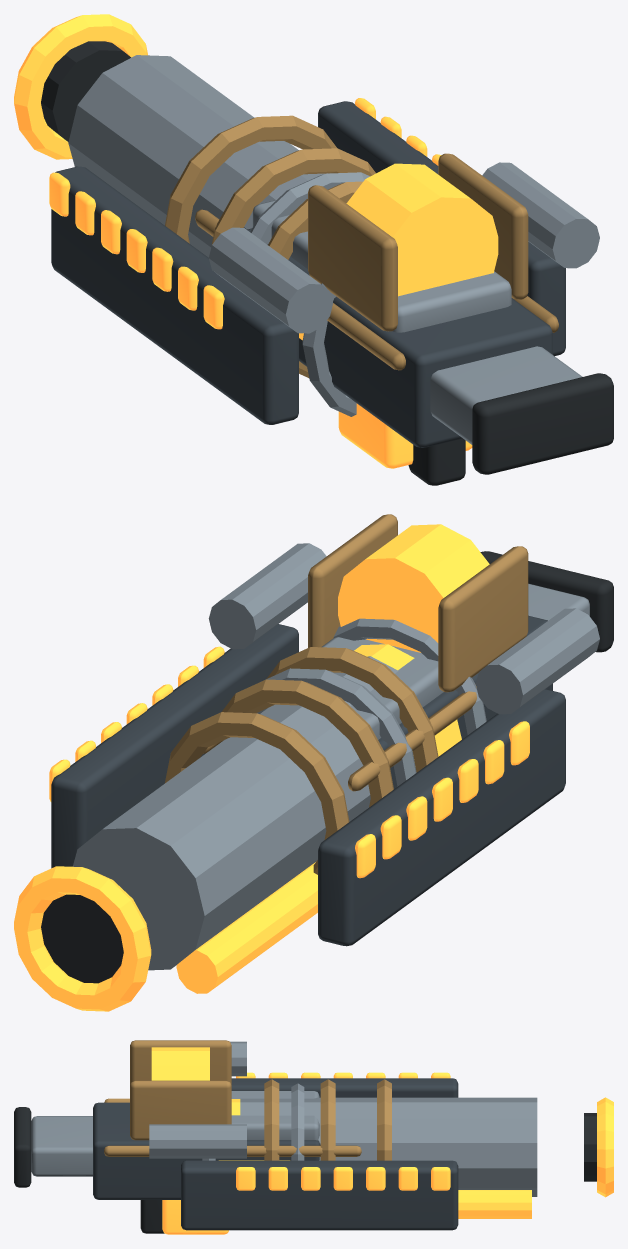
Rendered from apocalypse-core.glb.
3 views of the same model, one above another, from view 1: azimuth 30°, elevation 25°; view 2: azimuth 150°, elevation 25°; view 3: azimuth 270°, elevation 25° (orthographic). The views are drawn at different scales.
Parts seen in each view (by area): view 1: APOCALYPSE-CORE / heat shield, APOCALYPSE-CORE / siege barrel, APOCALYPSE-CORE / receiver, APOCALYPSE-CORE / exposed apocalypse core, APOCALYPSE-CORE / butt pad, APOCALYPSE-CORE / reactor cage, APOCALYPSE-CORE / exhaust pipe, APOCALYPSE-CORE / heat shield.001, APOCALYPSE-CORE / shoulder stock, APOCALYPSE-CORE / burning muzzle, APOCALYPSE-CORE / overpressure clamp.002, APOCALYPSE-CORE / exhaust pipe.001 (+17 smaller); view 2: APOCALYPSE-CORE / siege barrel, APOCALYPSE-CORE / heat shield, APOCALYPSE-CORE / heat shield.001, APOCALYPSE-CORE / exposed apocalypse core, APOCALYPSE-CORE / burning muzzle, APOCALYPSE-CORE / reactor cage, APOCALYPSE-CORE / exhaust pipe, APOCALYPSE-CORE / outer plasma lance, APOCALYPSE-CORE / overpressure clamp.002, APOCALYPSE-CORE / exhaust pipe.001, APOCALYPSE-CORE / infernal bore, APOCALYPSE-CORE / overpressure clamp.001 (+17 smaller); view 3: APOCALYPSE-CORE / heat shield.001, APOCALYPSE-CORE / siege barrel, APOCALYPSE-CORE / receiver, APOCALYPSE-CORE / reactor cage.001, APOCALYPSE-CORE / shoulder stock, APOCALYPSE-CORE / exhaust pipe.001, APOCALYPSE-CORE / heat shield, APOCALYPSE-CORE / reactor cage, APOCALYPSE-CORE / outer plasma lance.001, APOCALYPSE-CORE / exposed apocalypse core, APOCALYPSE-CORE / upper armor, APOCALYPSE-CORE / burning muzzle (+17 smaller).
Part boxes in pixels (left/top/right/bottom): APOCALYPSE-CORE / heat shield: left=51, top=166, right=298, bottom=424; APOCALYPSE-CORE / siege barrel: left=68, top=55, right=328, bottom=257; APOCALYPSE-CORE / receiver: left=247, top=228, right=552, bottom=447; APOCALYPSE-CORE / exposed apocalypse core: left=346, top=163, right=498, bottom=296; APOCALYPSE-CORE / butt pad: left=472, top=373, right=613, bottom=474; APOCALYPSE-CORE / reactor cage: left=308, top=185, right=397, bottom=331; APOCALYPSE-CORE / exhaust pipe: left=209, top=227, right=332, bottom=333; APOCALYPSE-CORE / heat shield.001: left=318, top=101, right=565, bottom=356; APOCALYPSE-CORE / shoulder stock: left=430, top=346, right=582, bottom=444; APOCALYPSE-CORE / burning muzzle: left=14, top=14, right=147, bottom=159; APOCALYPSE-CORE / overpressure clamp.002: left=165, top=115, right=336, bottom=243; APOCALYPSE-CORE / exhaust pipe.001: left=482, top=162, right=599, bottom=268; APOCALYPSE-CORE / siege barrel: left=73, top=656, right=398, bottom=970; APOCALYPSE-CORE / heat shield: left=318, top=689, right=565, bottom=946; APOCALYPSE-CORE / heat shield.001: left=51, top=624, right=298, bottom=868; APOCALYPSE-CORE / exposed apocalypse core: left=338, top=524, right=489, bottom=652; APOCALYPSE-CORE / burning muzzle: left=14, top=866, right=151, bottom=1011; APOCALYPSE-CORE / reactor cage: left=438, top=546, right=528, bottom=692; APOCALYPSE-CORE / exhaust pipe: left=475, top=608, right=599, bottom=714; APOCALYPSE-CORE / outer plasma lance: left=176, top=862, right=317, bottom=993; APOCALYPSE-CORE / overpressure clamp.002: left=164, top=712, right=349, bottom=874; APOCALYPSE-CORE / exhaust pipe.001: left=208, top=543, right=326, bottom=649; APOCALYPSE-CORE / infernal bore: left=41, top=889, right=123, bottom=983; APOCALYPSE-CORE / overpressure clamp.001: left=222, top=679, right=393, bottom=807; APOCALYPSE-CORE / heat shield.001: left=181, top=1160, right=458, bottom=1230; APOCALYPSE-CORE / siege barrel: left=240, top=1097, right=537, bottom=1196; APOCALYPSE-CORE / receiver: left=93, top=1102, right=320, bottom=1199; APOCALYPSE-CORE / reactor cage.001: left=130, top=1080, right=231, bottom=1140; APOCALYPSE-CORE / shoulder stock: left=31, top=1116, right=92, bottom=1176; APOCALYPSE-CORE / exhaust pipe.001: left=149, top=1124, right=246, bottom=1158; APOCALYPSE-CORE / heat shield: left=231, top=1078, right=458, bottom=1097; APOCALYPSE-CORE / reactor cage: left=130, top=1040, right=231, bottom=1084; APOCALYPSE-CORE / outer plasma lance.001: left=458, top=1190, right=531, bottom=1218; APOCALYPSE-CORE / exposed apocalypse core: left=151, top=1047, right=209, bottom=1080; APOCALYPSE-CORE / upper armor: left=231, top=1091, right=319, bottom=1140; APOCALYPSE-CORE / burning muzzle: left=597, top=1097, right=613, bottom=1197.
Bounding box in the file's own units: 1.06 × 0.91 × 2.77.
